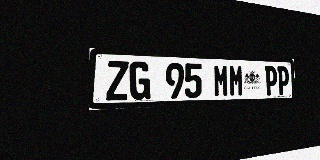5: (185, 63, 202, 98)
9: (166, 62, 184, 99)
G: (129, 61, 150, 100)
M: (213, 64, 229, 97), (229, 65, 243, 97)
P: (265, 66, 277, 95), (277, 66, 289, 95)
Z: (106, 60, 129, 101)
